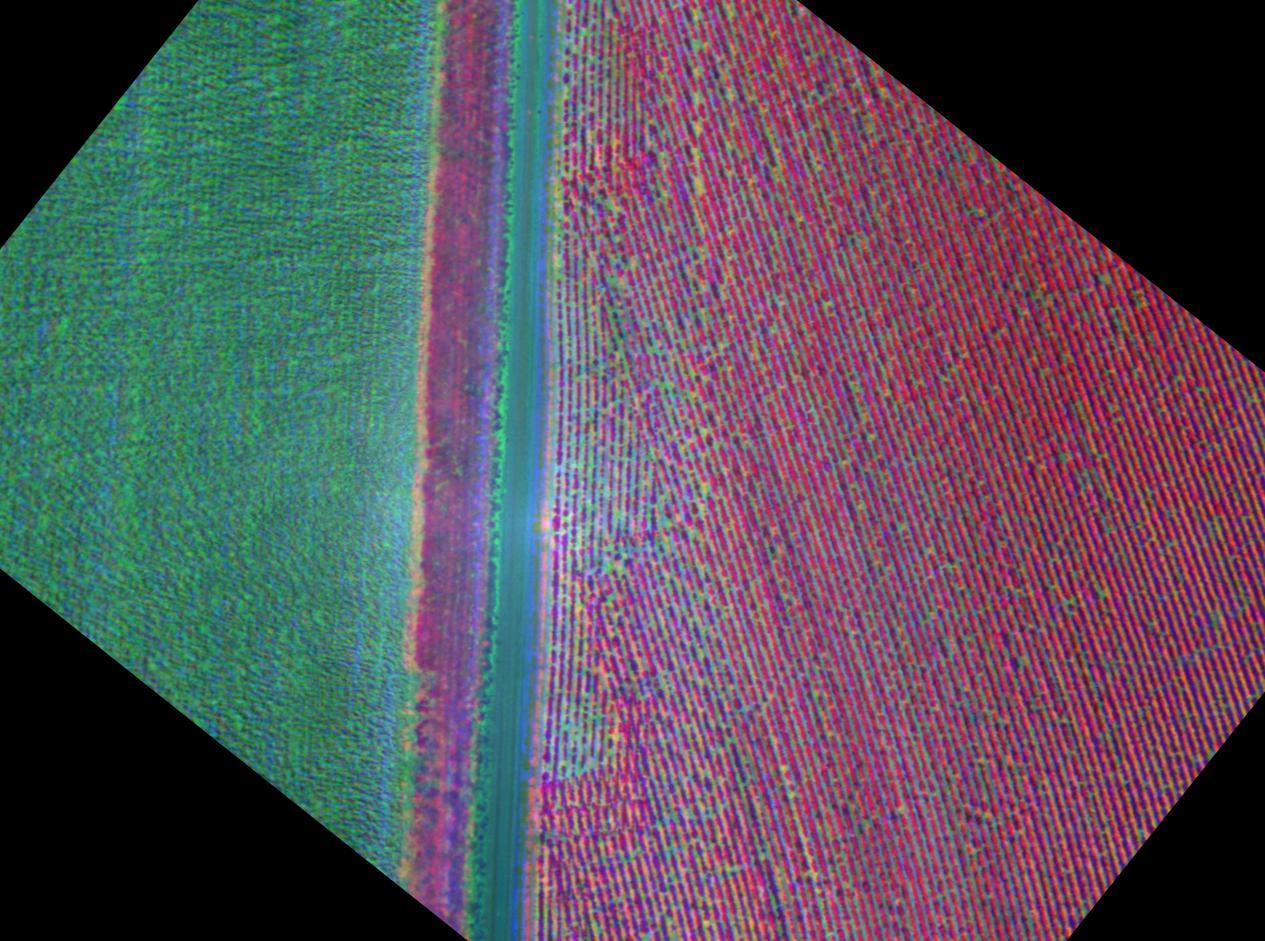dc: (606, 201, 611, 207), (663, 382, 668, 387)
